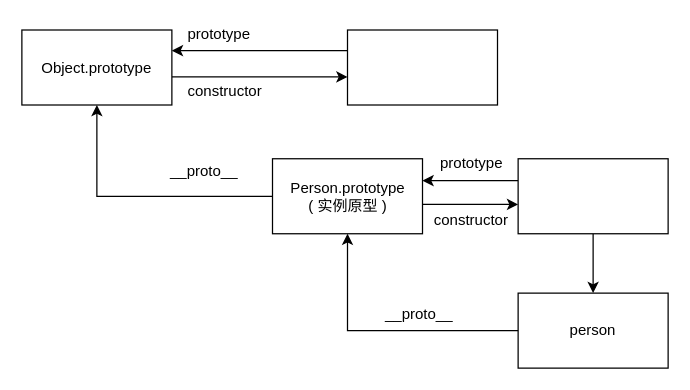
The diagram is 690 pixels wide and 390 high, and some of its shapes have lost their labels. Here are the shapes that lost their labels. From the top down, the centre of each, then its label:
At pixel 422 67: "Object".
At pixel 592 196: "Person, Number ( Constructor )".
